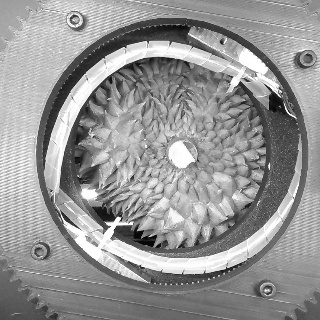base: (158, 133, 205, 178)
end: (167, 139, 197, 169)
